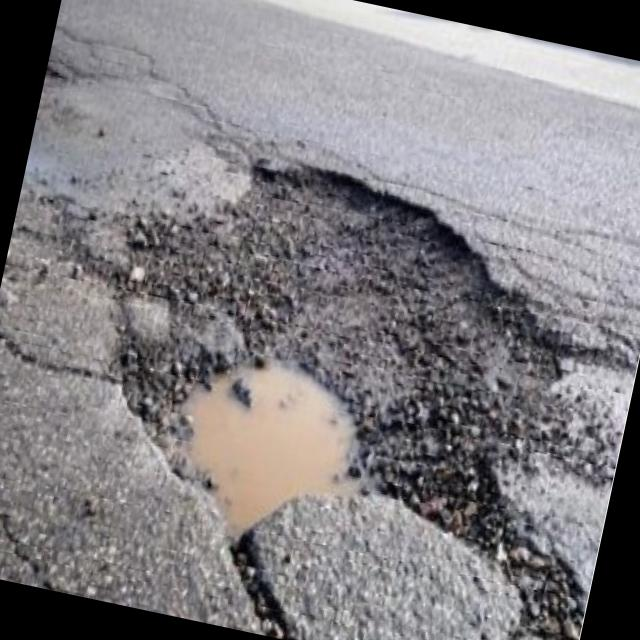Potholes: (26, 89, 640, 640)
